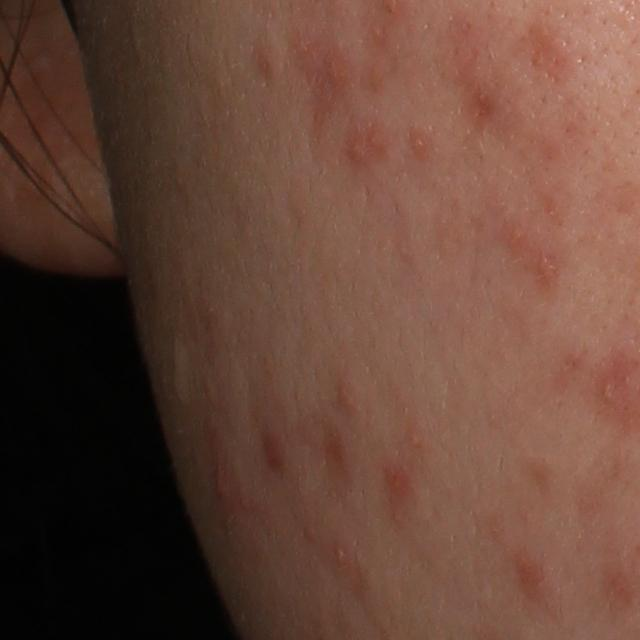papule: (513, 549, 549, 595), (211, 462, 236, 508), (261, 432, 288, 469), (384, 463, 412, 498), (536, 252, 560, 282), (345, 138, 368, 164), (334, 381, 354, 409), (411, 132, 431, 158)
